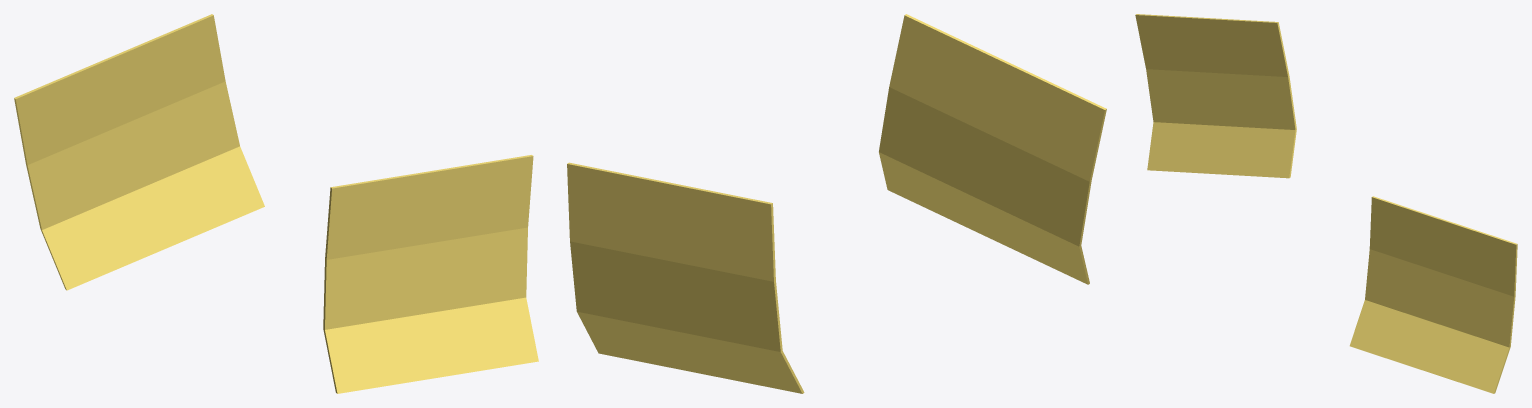
Rendered from Stickers_3.fbx.
The picture shows the model from 3 angles, left to right: view 1: azimuth 30°, elevation 25°; view 2: azimuth 150°, elevation 25°; view 3: azimuth 330°, elevation 25°; orthographic projection. The views are drawn at different scales.
Visible parts, largest first — view 1: Stickers_3; view 2: Stickers_3; view 3: Stickers_3.
Boxes of the visible parts, x1,y1,x2,y2 form: Stickers_3: (14,14,538,393); Stickers_3: (567,14,1106,393); Stickers_3: (1135,14,1517,393).
Bounding box in the file's own units: 45.89 × 3.83 × 34.84.
